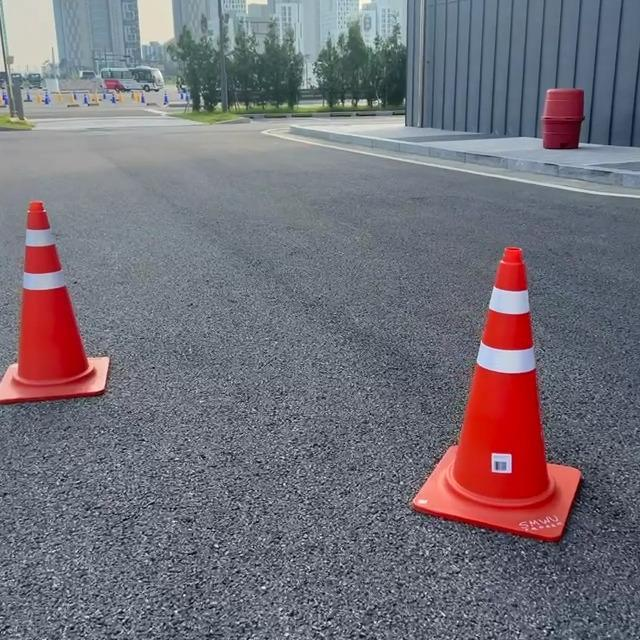fallen_object: (403, 233, 597, 551), (5, 227, 138, 419)
